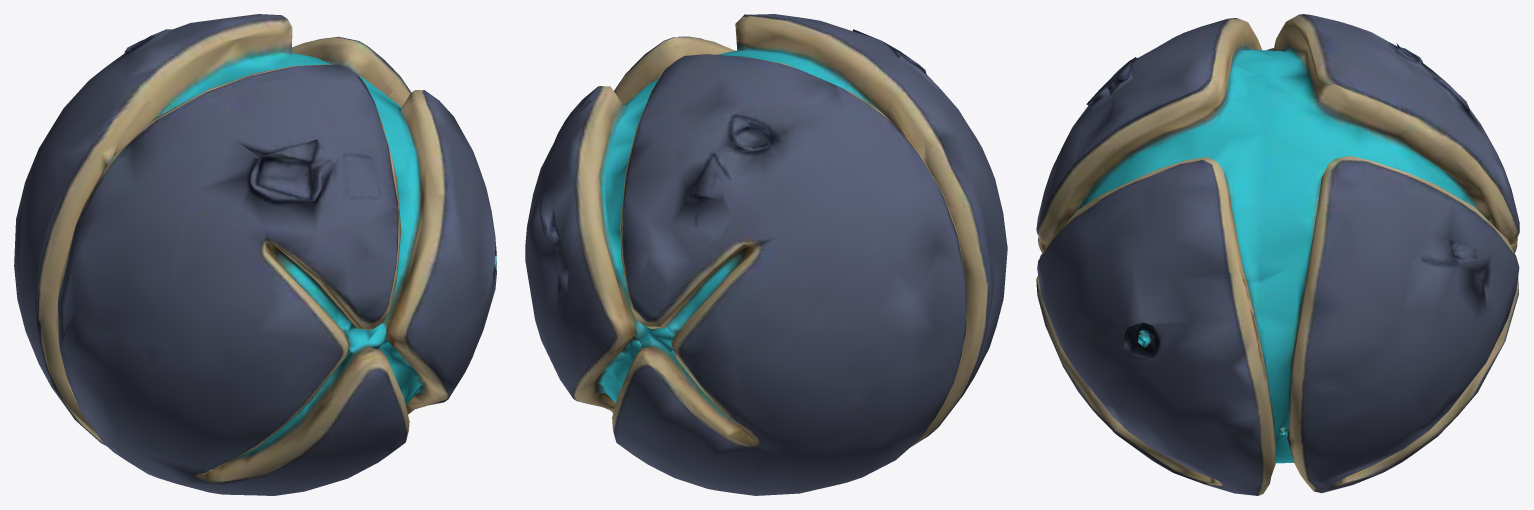
Rendered from orbe.glb.
The picture shows the model from 3 angles, left to right: view 1: azimuth 30°, elevation 25°; view 2: azimuth 150°, elevation 25°; view 3: azimuth 270°, elevation 25°; orthographic projection.
Visible parts, largest first — view 1: tripo_node_eb685323-c071-4d2c-bc14-4b24af6a448b; view 2: tripo_node_eb685323-c071-4d2c-bc14-4b24af6a448b; view 3: tripo_node_eb685323-c071-4d2c-bc14-4b24af6a448b.
Part boxes in pixels (bbox=[...]): tripo_node_eb685323-c071-4d2c-bc14-4b24af6a448b: bbox=[14, 14, 496, 495]; tripo_node_eb685323-c071-4d2c-bc14-4b24af6a448b: bbox=[525, 14, 1007, 495]; tripo_node_eb685323-c071-4d2c-bc14-4b24af6a448b: bbox=[1036, 14, 1519, 495].
Size of the model in its own units: 0.9929 by 0.9789 by 0.9908.
1 material, 1 textured.
